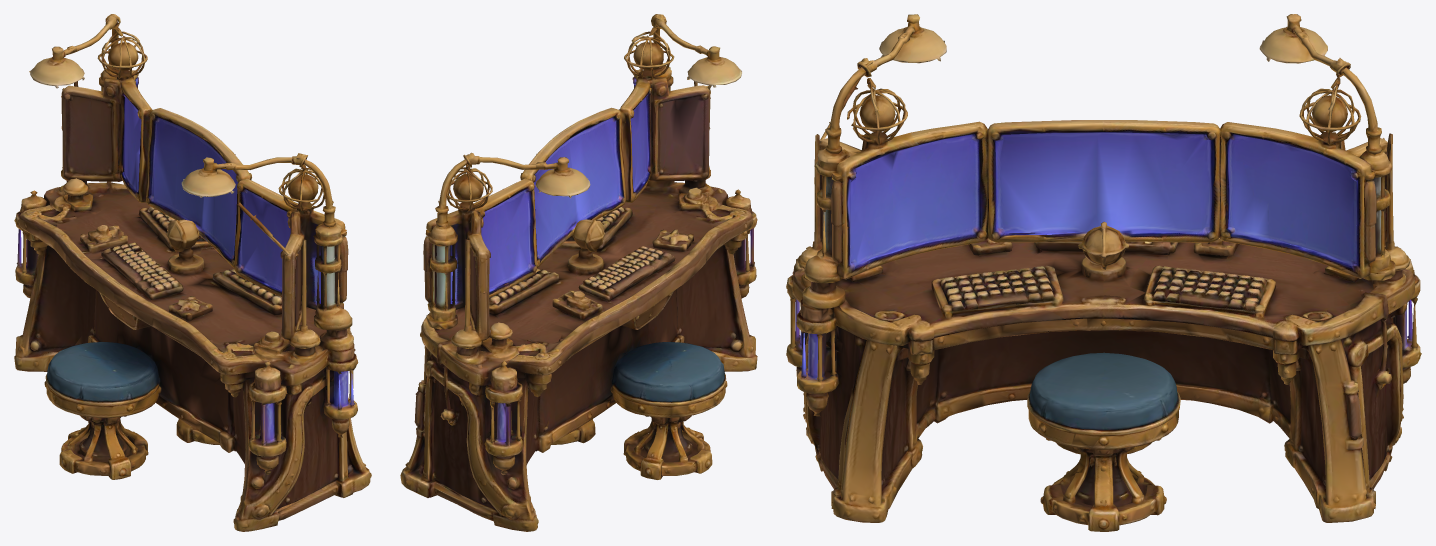
File: prop_nyxdesk.glb
The picture shows the model from 3 angles, left to right: view 1: azimuth 30°, elevation 25°; view 2: azimuth 150°, elevation 25°; view 3: azimuth 270°, elevation 25°; orthographic projection. The views are drawn at different scales.
Parts seen in each view (by area): view 1: tripo_node_235630a9-c017-479e-b0fd-02718d54036c; view 2: tripo_node_235630a9-c017-479e-b0fd-02718d54036c; view 3: tripo_node_235630a9-c017-479e-b0fd-02718d54036c.
Part boxes in pixels (x1,y1,x2,y2): tripo_node_235630a9-c017-479e-b0fd-02718d54036c: (14,14,371,531); tripo_node_235630a9-c017-479e-b0fd-02718d54036c: (400,14,757,531); tripo_node_235630a9-c017-479e-b0fd-02718d54036c: (786,14,1421,531).
Bounding box in the file's own units: 0.4914 × 0.7515 × 0.9801.
Materials: 1 (1 with a texture image).
